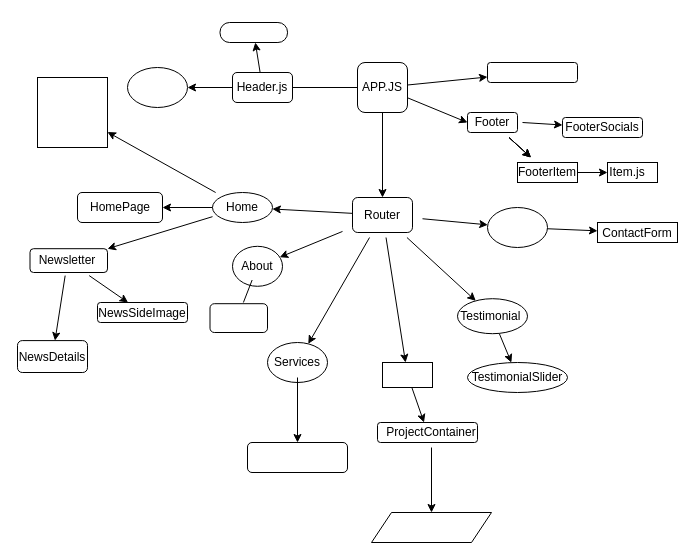
Image size: 695x560. Some labels were removed from this diagram. Each missing label, with the box of its shape:
Aout Services Project Tesimonial Contact: (36, 76, 108, 148)
BackToTopBtn: (486, 62, 578, 82)
Contact: (486, 206, 548, 248)
Nav.js: (126, 66, 188, 108)
Project: (382, 362, 432, 388)
ProjectFetching: (370, 512, 492, 542)
ServiceContainer: (246, 442, 348, 472)
Slidebar: (219, 22, 288, 42)
Stats.js: (209, 303, 268, 332)
